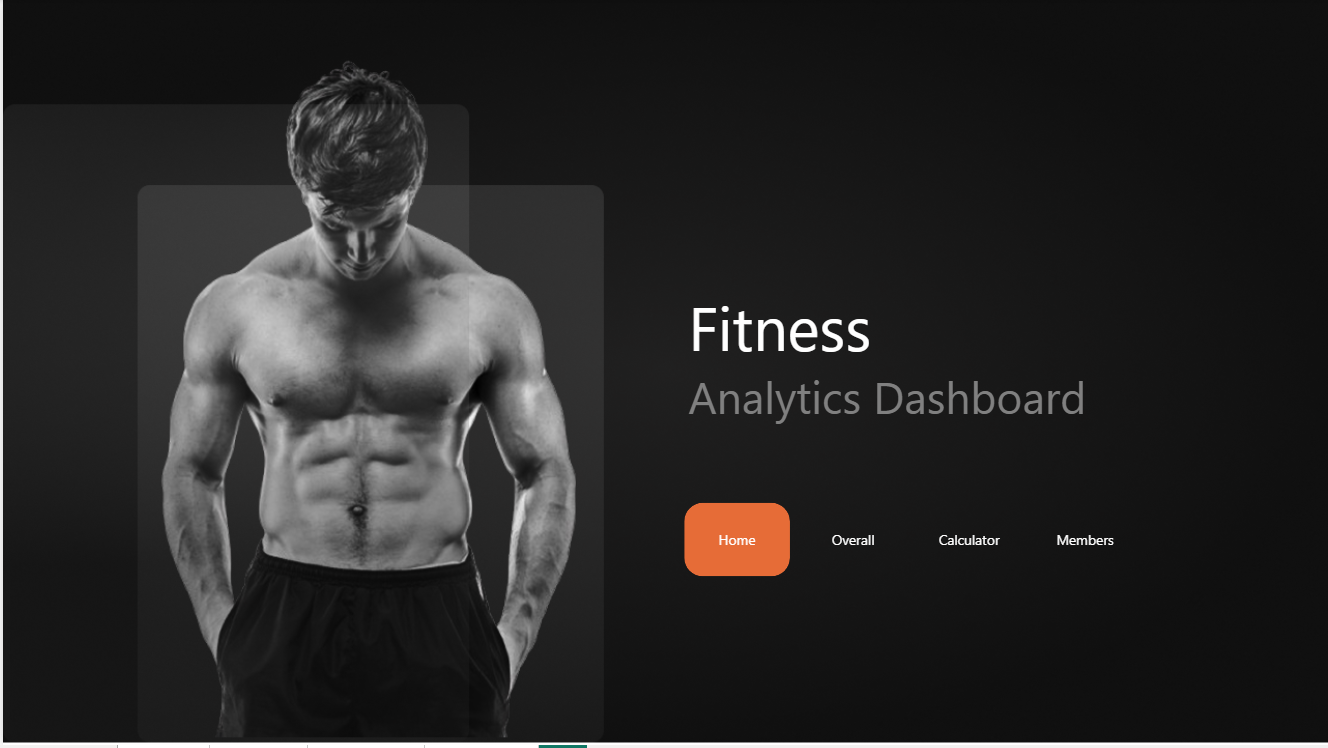

The page's visual inventory and layout, read from the dashboard file:
{"tool":"powerbi","page":{"name":"Home","canvas":[1280,720],"ordinal":0},"visuals":[{"type":"textbox","box":[656.7,271.7,438.3,153.3],"z":0},{"type":"pageNavigator","box":[656.9,486.7,439,71.6],"z":1001}]}

Visuals, with their boxes in screenshot pixels (x1, y1, x2, y2), scaled from the page's 1280x720 canvas onto the 1328x748 screenshot:
textbox: bbox(681, 282, 1136, 442)
pageNavigator: bbox(682, 506, 1137, 580)
